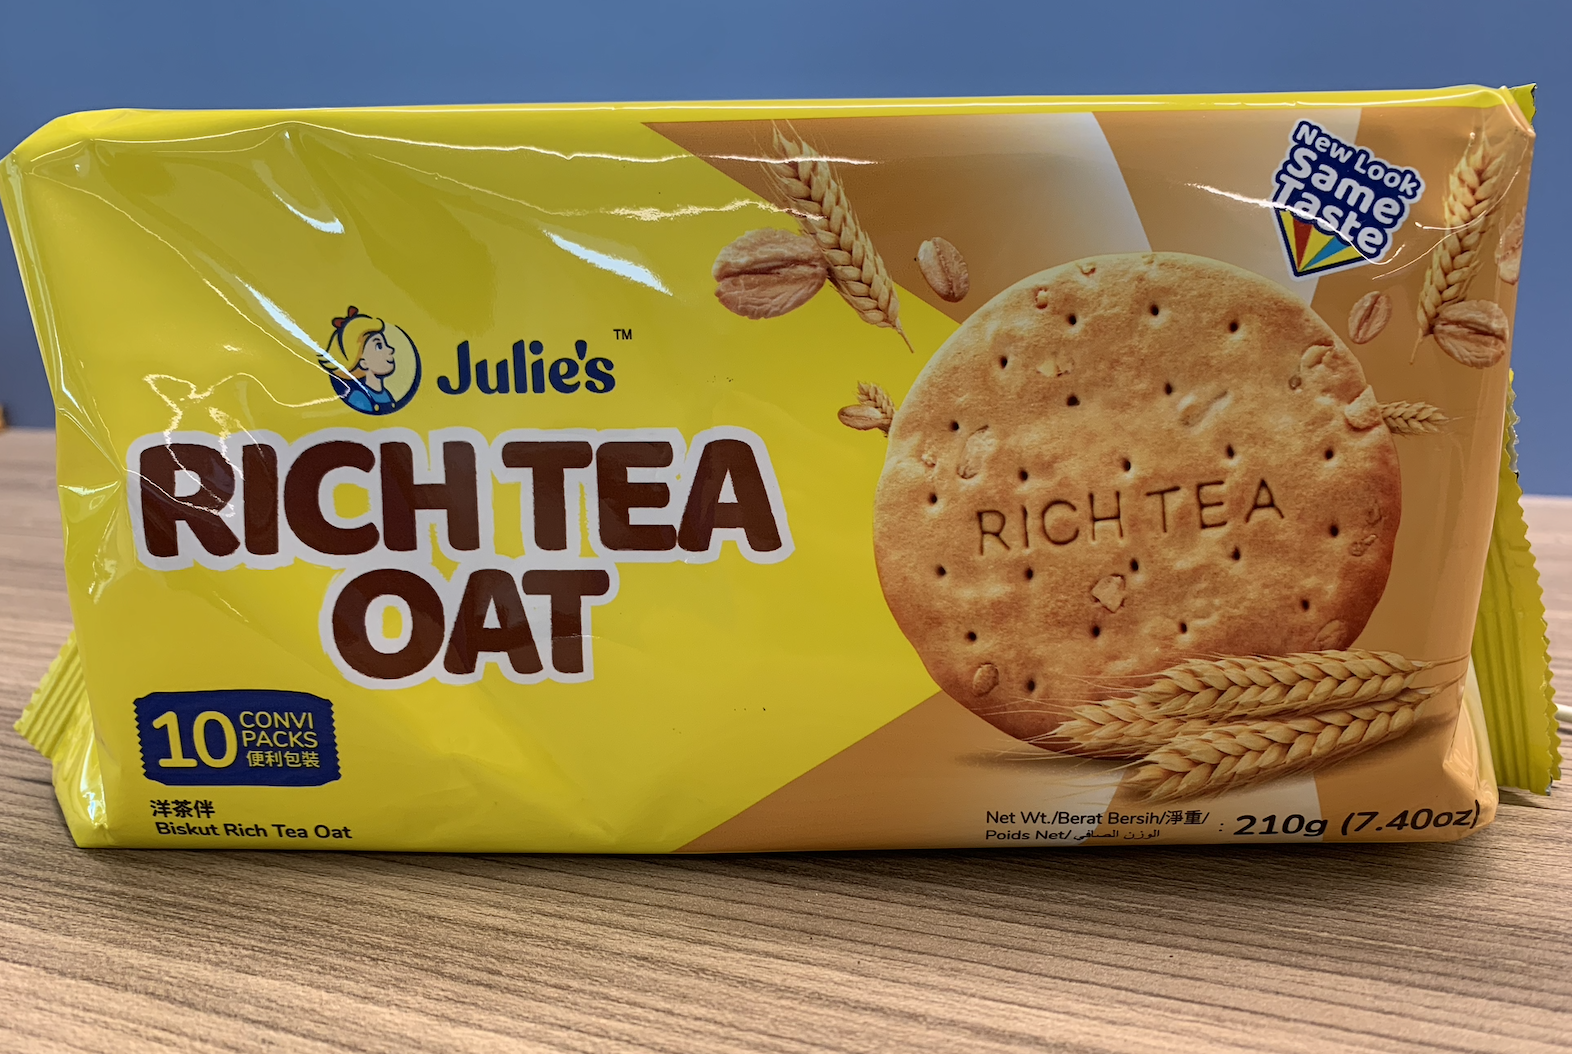cookies_150g: (101, 145, 1486, 836)
